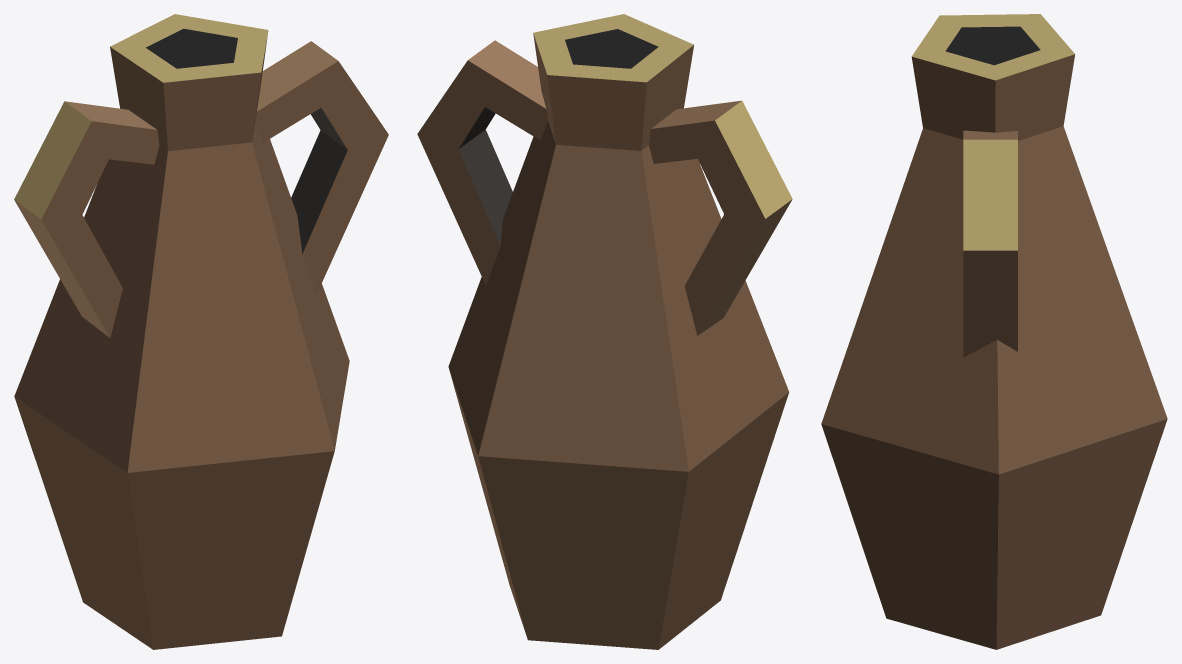
File: TB_D_Prop_Jar_H.FBX
3 renders of one model, left to right at view 1: azimuth 30°, elevation 25°; view 2: azimuth 150°, elevation 25°; view 3: azimuth 270°, elevation 25°, orthographic.
Visible parts, largest first — view 1: TB_D_Prop_Jar_H; view 2: TB_D_Prop_Jar_H; view 3: TB_D_Prop_Jar_H.
Part boxes in pixels (<box>): TB_D_Prop_Jar_H: <box>14,14,388,649</box>; TB_D_Prop_Jar_H: <box>417,14,792,649</box>; TB_D_Prop_Jar_H: <box>821,14,1167,649</box>.
Bounding box in the file's own units: 1.1 × 1.69 × 0.9506.
